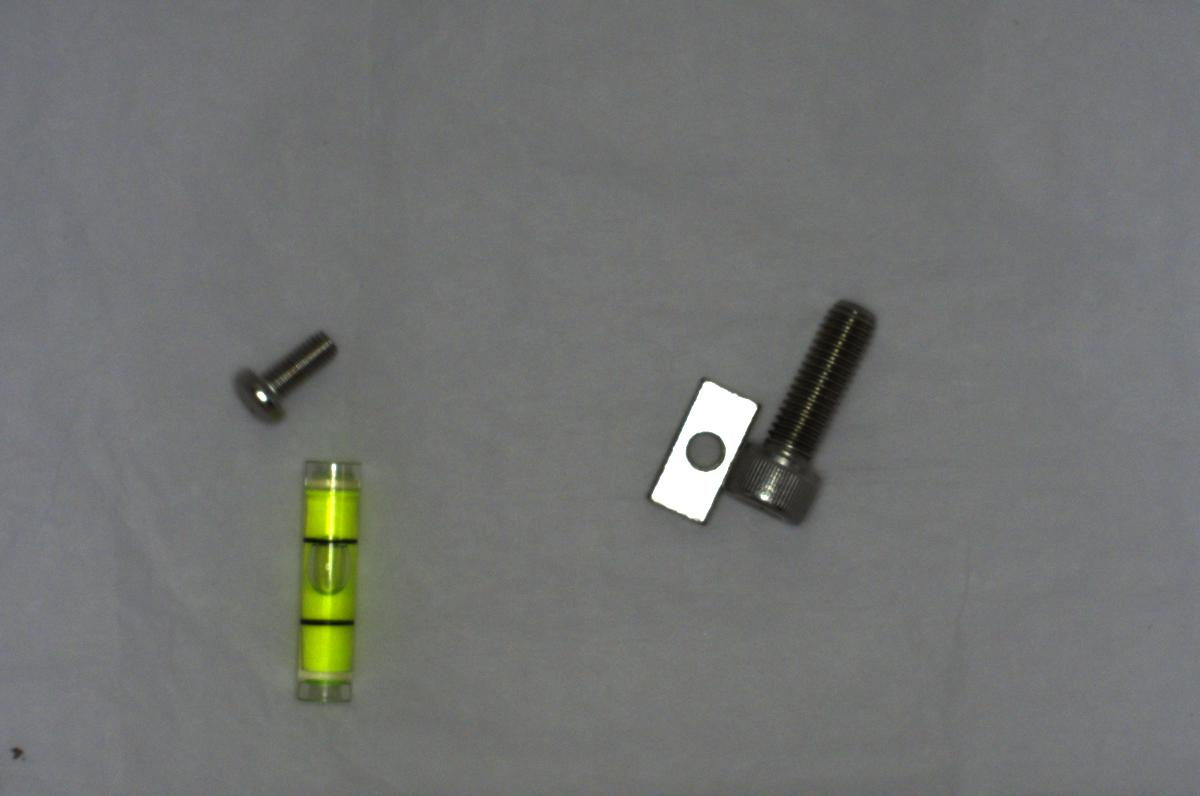Hexagon screw: (719, 293, 885, 529)
Horizontal bubble: (290, 448, 368, 716)
Rectangular nut: (633, 366, 762, 542)
Round head screw: (225, 319, 339, 428)
